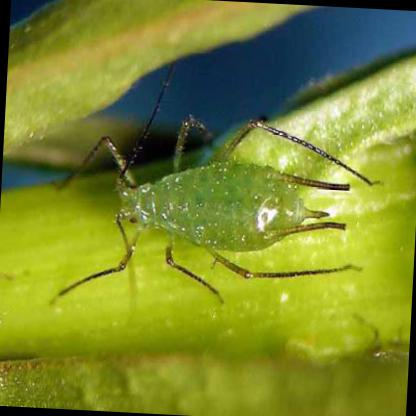uroleucon compositae: (52, 115, 372, 306)
